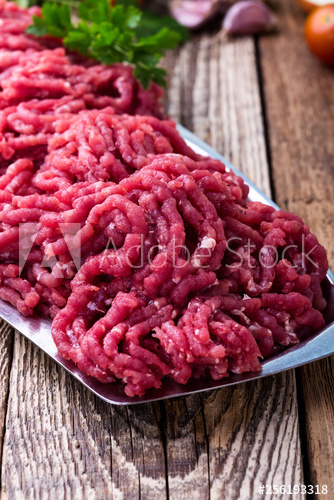ground_beef: (1, 25, 326, 376)
